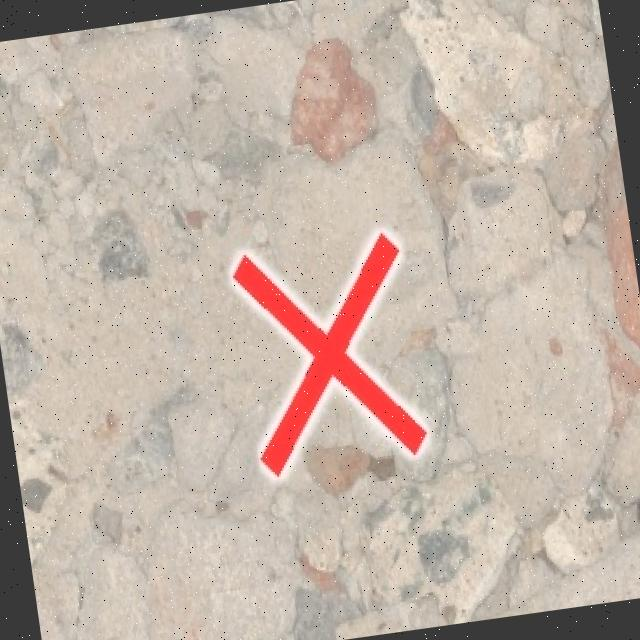x_marker: (229, 230, 429, 478)
